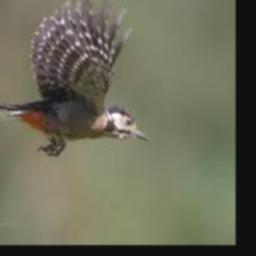Woodpecker: (0, 0, 154, 155)
